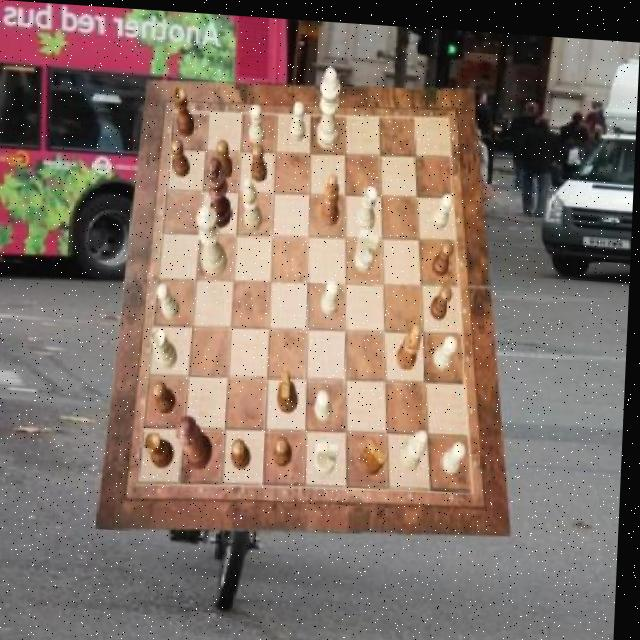bishop: (400, 317, 425, 364), (321, 169, 342, 223)
black-bishop: (205, 154, 235, 227)
black-king: (364, 432, 392, 471), (280, 366, 302, 410)
black-knight: (432, 278, 456, 314), (171, 136, 193, 175), (433, 234, 456, 271), (155, 380, 180, 413), (216, 138, 235, 177), (252, 140, 270, 179), (233, 435, 254, 467), (276, 432, 295, 464)
black-pawn: (178, 412, 217, 468)
black-queen: (173, 85, 197, 135), (147, 429, 178, 466)
black-rook: (403, 424, 432, 467), (243, 173, 265, 228)
white-bishop: (318, 62, 343, 145)
white-king: (355, 224, 381, 269), (316, 434, 342, 470)
white-knight: (159, 281, 183, 319), (435, 328, 460, 364), (445, 435, 470, 469), (433, 188, 454, 225), (250, 101, 267, 142), (322, 274, 341, 310), (289, 99, 306, 138), (318, 385, 336, 419)
white-pawn: (196, 202, 232, 272)
white-queen: (153, 326, 181, 367), (356, 179, 379, 226)
